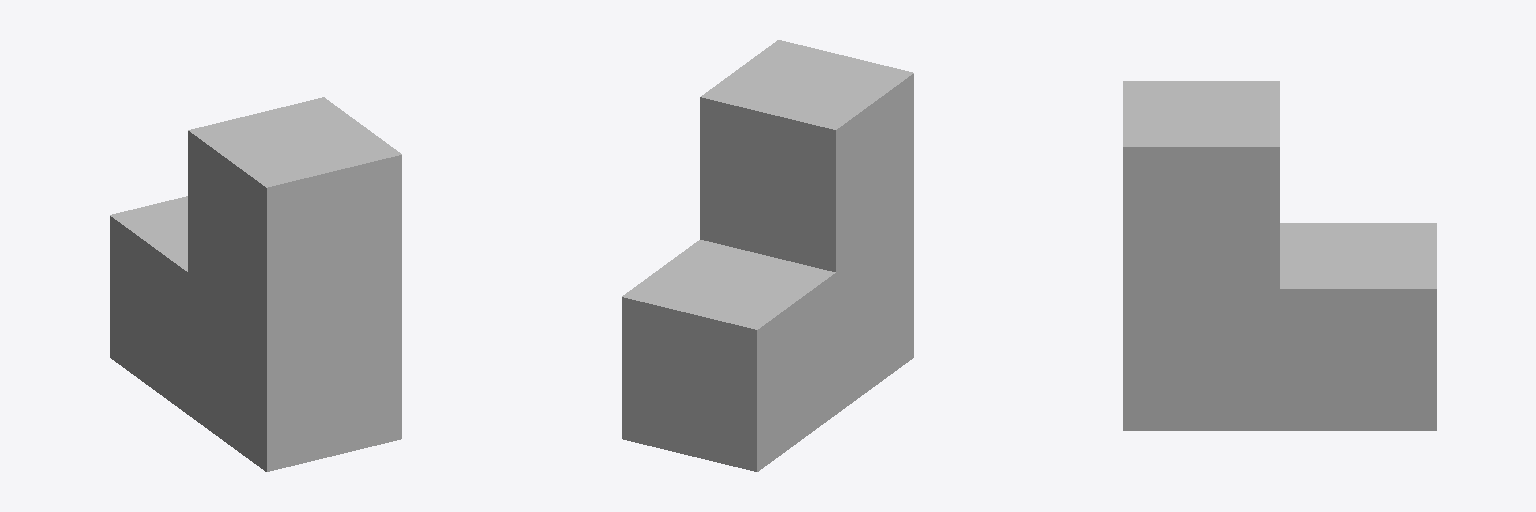
The model's file is Simple5.obj.
The picture shows the model from 3 angles: view 1: azimuth 30°, elevation 25°; view 2: azimuth 150°, elevation 25°; view 3: azimuth 270°, elevation 25°; orthographic projection.
Visible parts, largest first — view 1: Simple5; view 2: Simple5; view 3: Simple5.
Part boxes in pixels (bbox=[...]): Simple5: bbox=[110, 97, 401, 471]; Simple5: bbox=[622, 40, 913, 471]; Simple5: bbox=[1123, 81, 1436, 430].
Size of the model in its own units: 1 by 2 by 2.